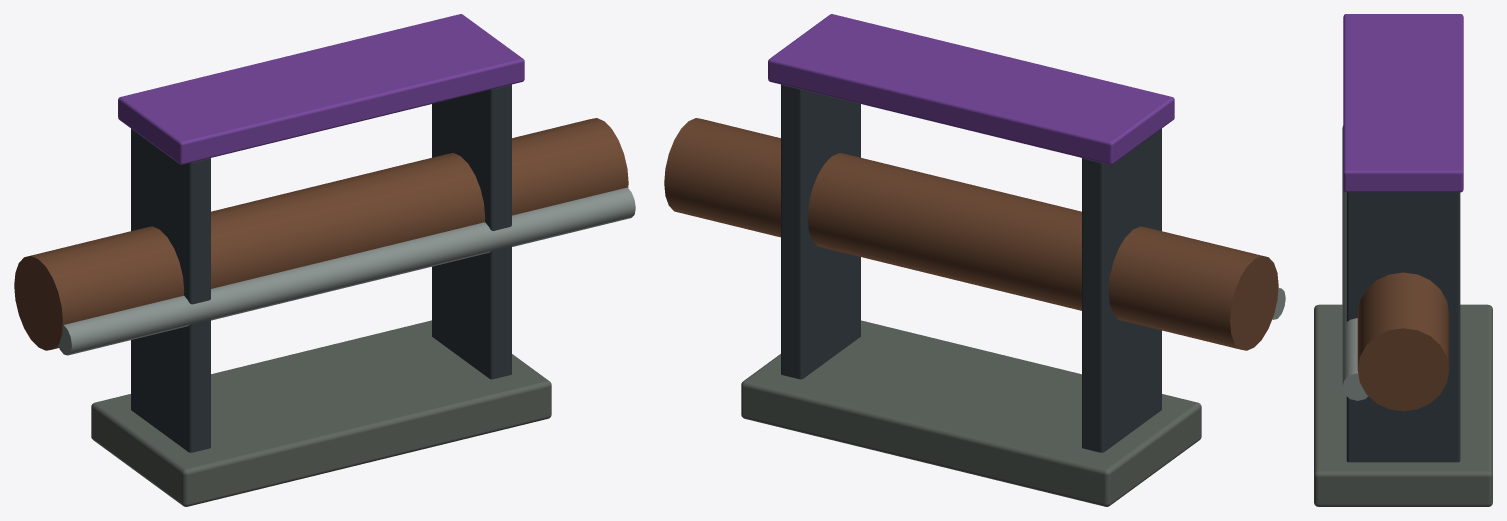
File: wall_l02.glb
3 views of the same model, side by side, from view 1: azimuth 30°, elevation 25°; view 2: azimuth 150°, elevation 25°; view 3: azimuth 270°, elevation 25° (orthographic). The views are drawn at different scales.
Parts seen in each view (by area): view 1: reclaimed_timber (×3), continuous_footing, end_post (×2), purple_upgrade_cap, steel_binding (×3); view 2: reclaimed_timber (×3), continuous_footing, end_post (×2), purple_upgrade_cap; view 3: purple_upgrade_cap, end_post, continuous_footing, reclaimed_timber (×2), steel_binding (×3).
Boxes of the visible parts, <box> form: reclaimed_timber (×3): <box>14,118,628,350</box>; continuous_footing: <box>91,320,551,506</box>; end_post (×2): <box>131,84,511,452</box>; purple_upgrade_cap: <box>118,14,524,164</box>; steel_binding (×3): <box>58,187,635,355</box>; reclaimed_timber (×3): <box>664,118,1278,350</box>; continuous_footing: <box>741,320,1201,506</box>; end_post (×2): <box>781,84,1161,452</box>; purple_upgrade_cap: <box>768,14,1174,164</box>; purple_upgrade_cap: <box>1343,14,1463,192</box>; end_post: <box>1346,192,1460,462</box>; continuous_footing: <box>1314,304,1492,506</box>; reclaimed_timber (×2): <box>1357,272,1449,411</box>; steel_binding (×3): <box>1342,125,1368,400</box>.
Size of the model in its own units: 2.82 by 1.68 by 0.82.
